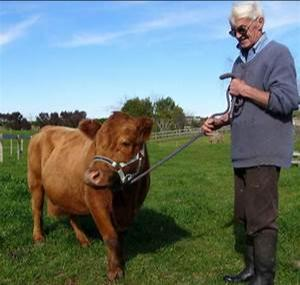cow: (26, 110, 153, 283)
